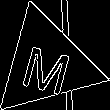M_N: (18, 33, 75, 94)
